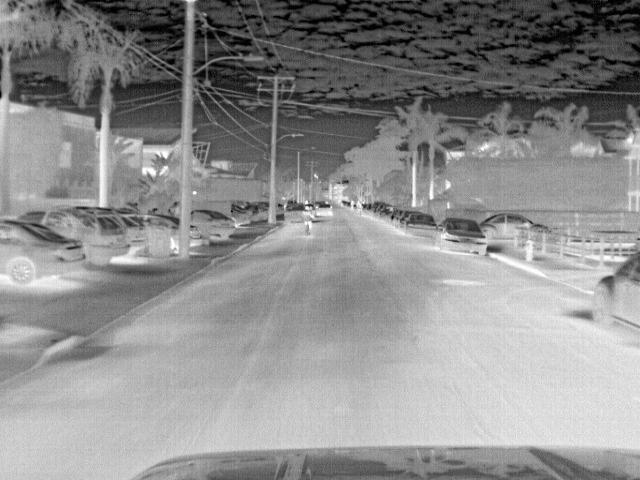car: (20, 209, 131, 263), (2, 218, 86, 284), (590, 256, 640, 334), (435, 218, 490, 260), (479, 212, 549, 239), (189, 209, 237, 238), (403, 213, 440, 238), (123, 216, 147, 250), (314, 200, 335, 218), (233, 207, 252, 226), (378, 204, 395, 220), (370, 200, 384, 216), (256, 206, 269, 222)
person: (304, 206, 314, 231), (355, 198, 365, 218)
